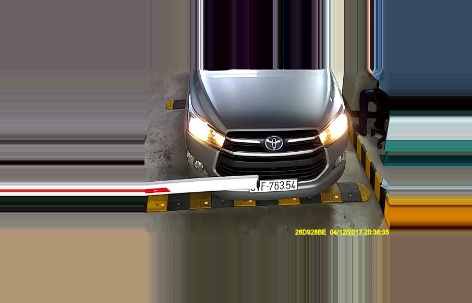plate: (245, 177, 297, 192)
